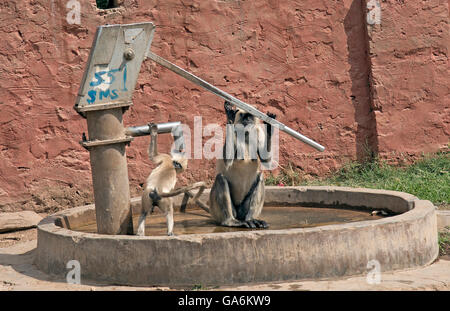monkey: (206, 93, 281, 237), (131, 118, 206, 238)
